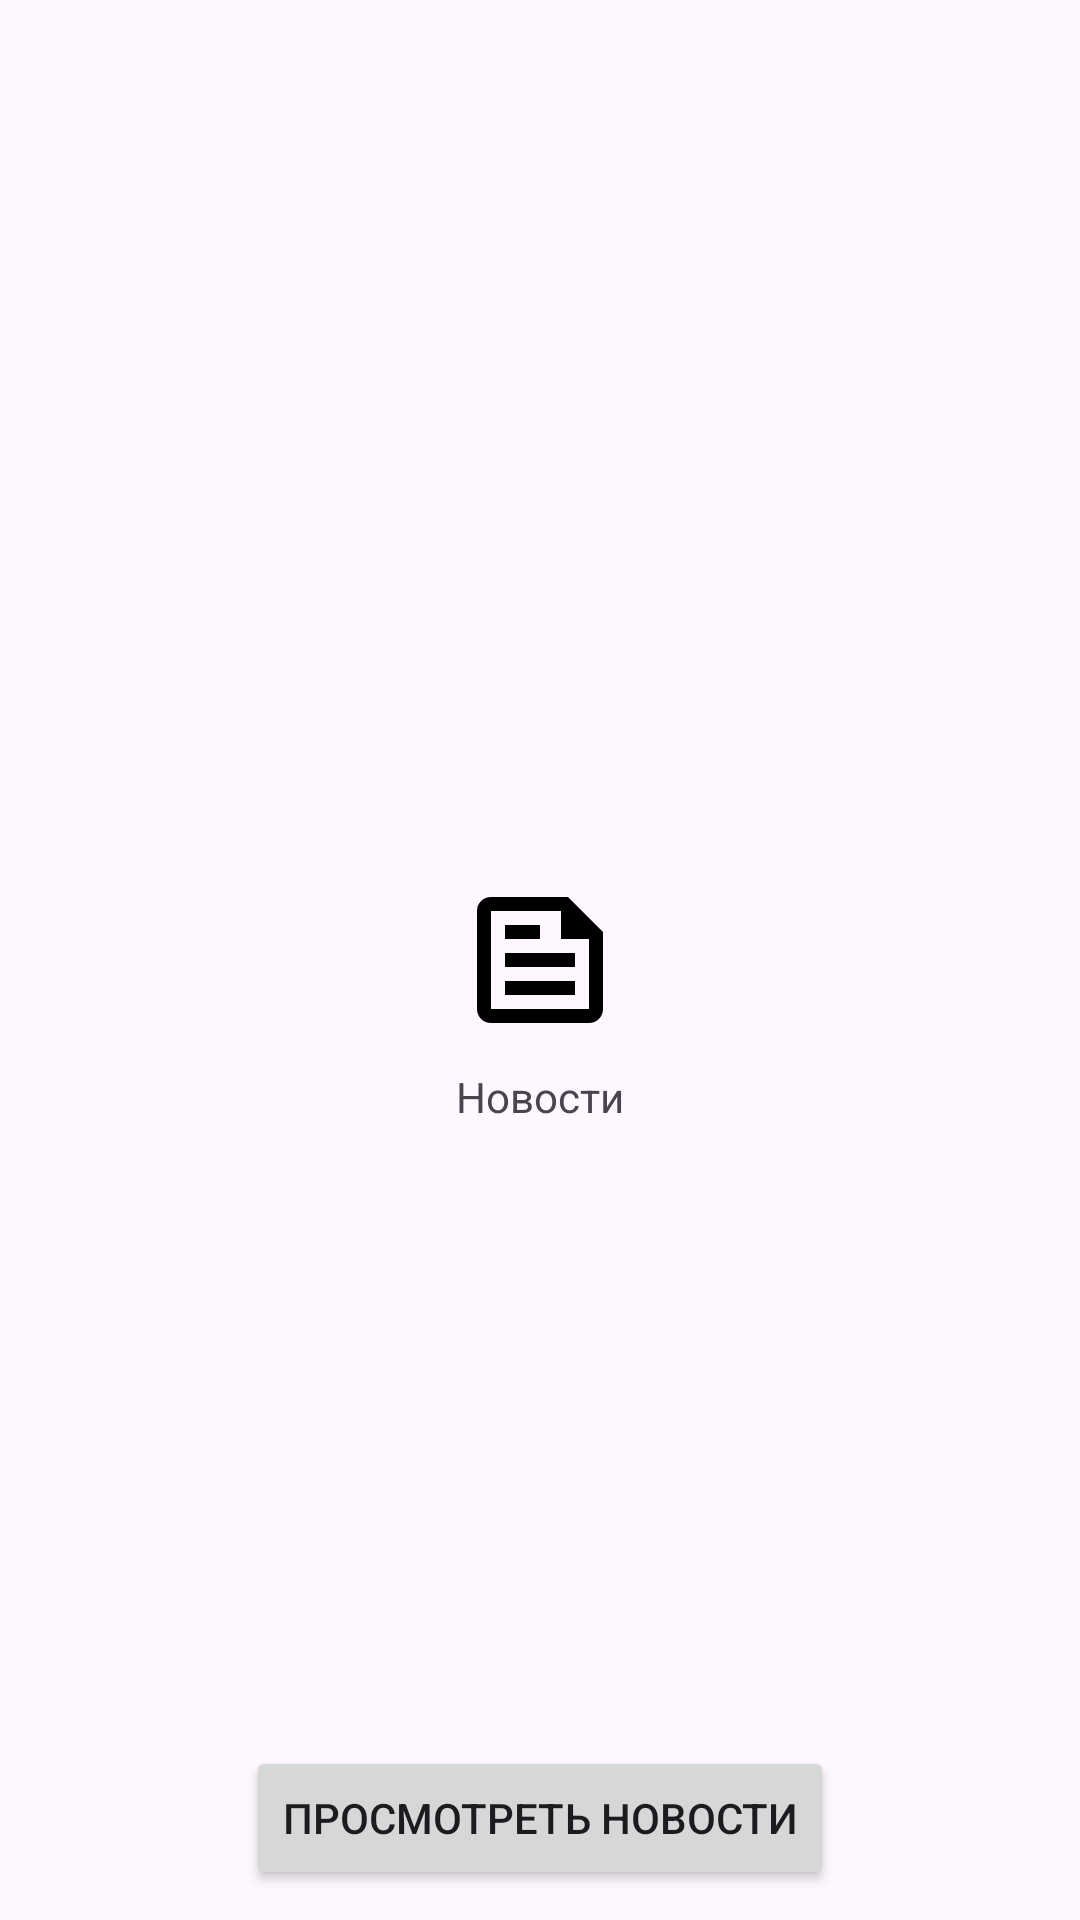

Named icons in this screenshot (1080x1920) and their centers, (x=x, y=y):
news: (x=540, y=960)
